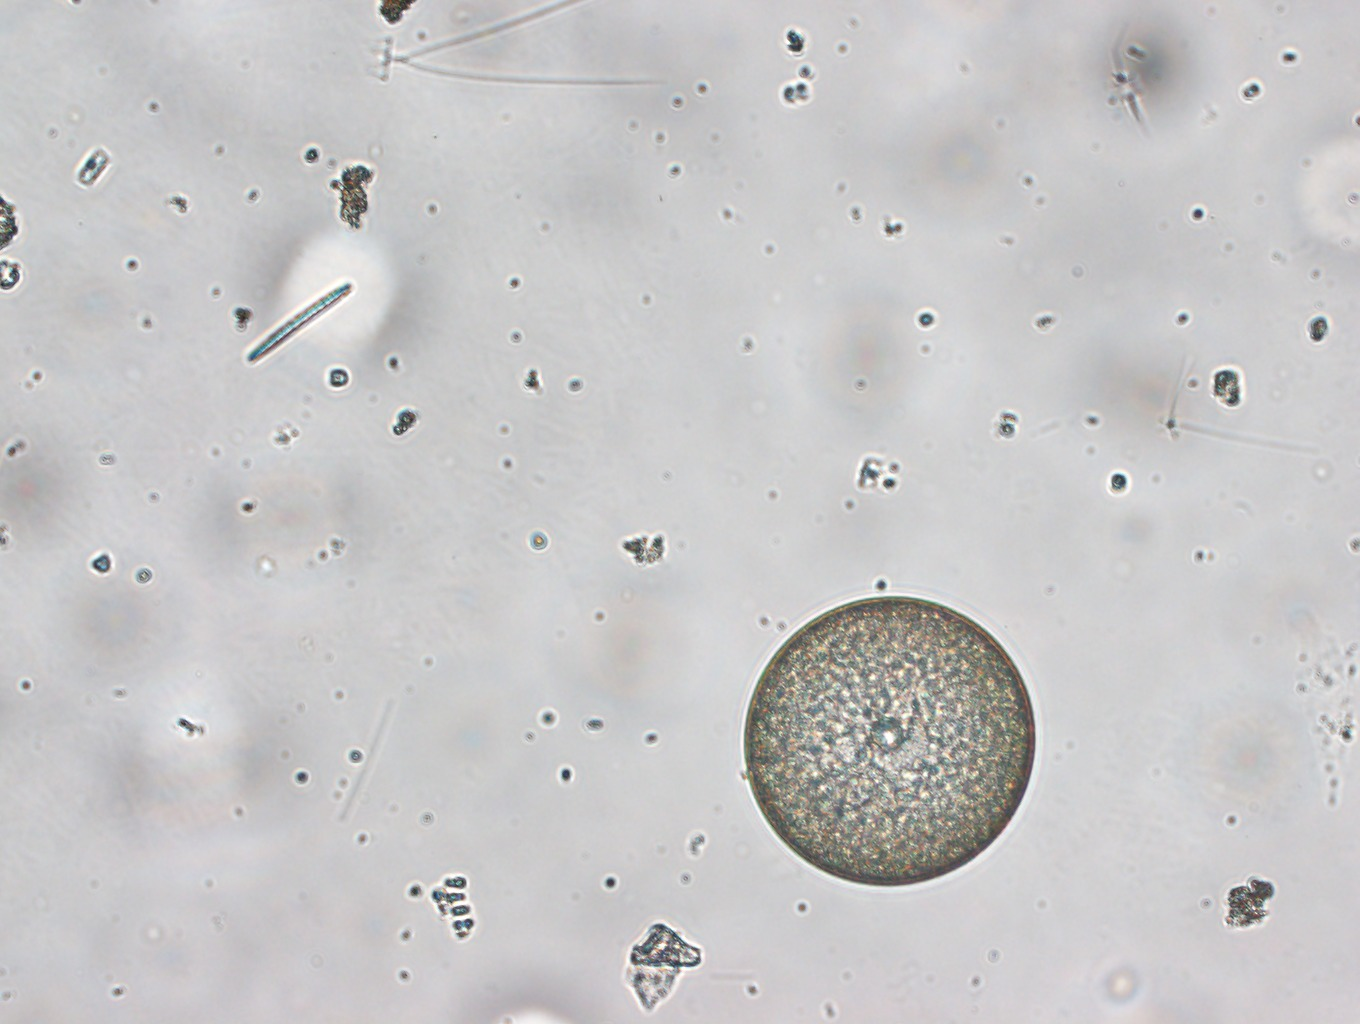coscinodiscus: (732, 593, 1050, 893)
